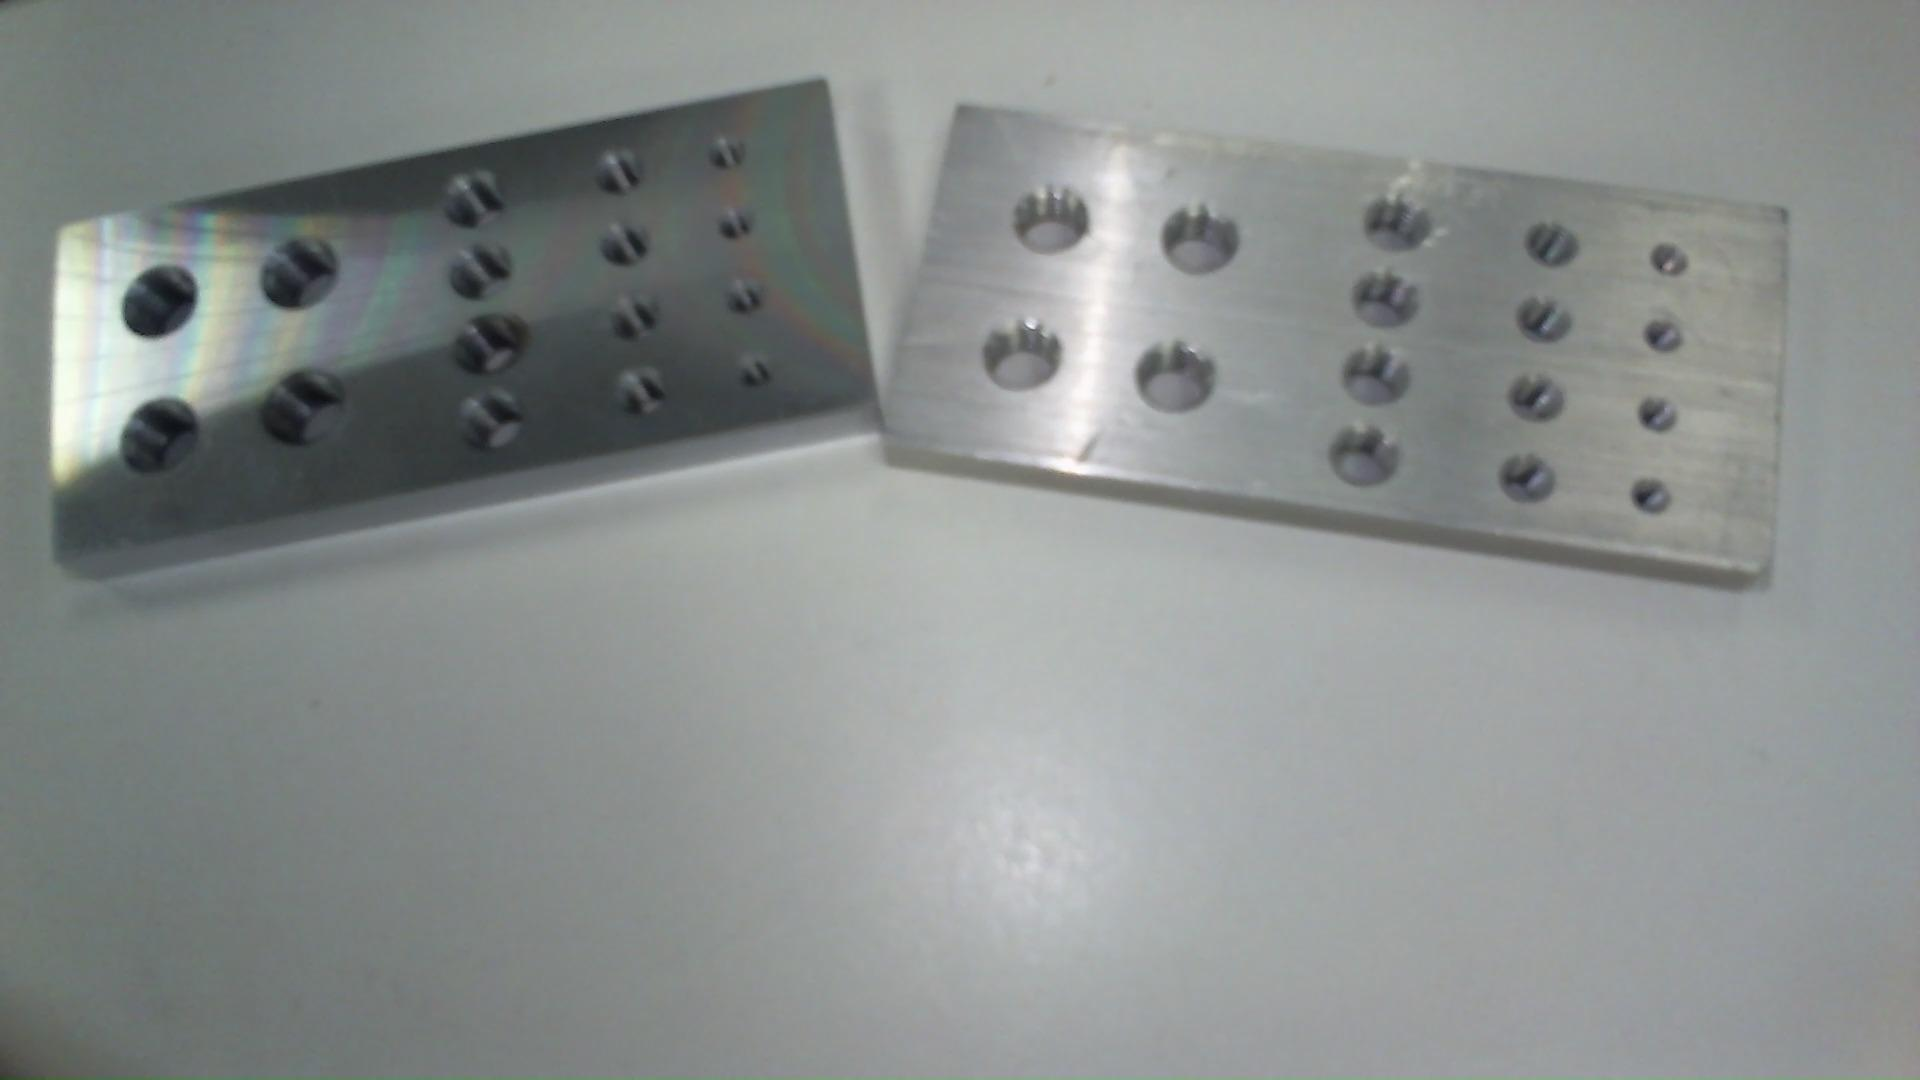hole: (113, 389, 214, 487), (258, 360, 347, 454), (257, 232, 349, 320), (112, 260, 199, 353), (1010, 182, 1093, 277), (976, 313, 1068, 396), (1129, 334, 1215, 422), (1153, 202, 1242, 286), (448, 310, 534, 385), (1324, 417, 1403, 492), (435, 237, 521, 295), (1358, 191, 1433, 257), (434, 165, 512, 227), (454, 390, 527, 455), (1352, 269, 1425, 334), (603, 360, 675, 423), (1502, 291, 1577, 352), (1495, 447, 1564, 513), (1341, 348, 1407, 414), (588, 142, 646, 210), (1502, 368, 1568, 426), (1526, 218, 1586, 280), (597, 216, 661, 269), (604, 301, 665, 349), (735, 348, 785, 405), (1622, 473, 1675, 526), (1651, 236, 1696, 294), (712, 132, 764, 182), (1643, 309, 1693, 356), (723, 273, 770, 316), (1635, 390, 1681, 433), (723, 204, 762, 253)
